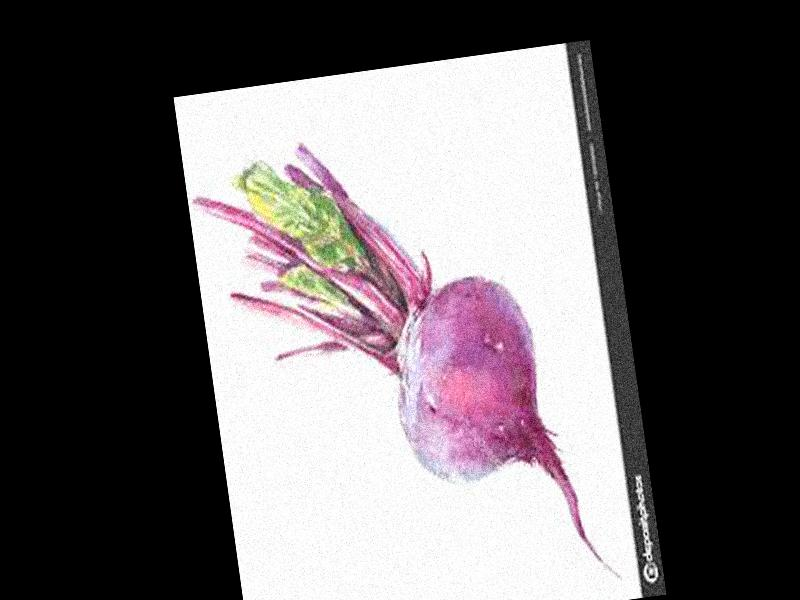Beet: (186, 109, 620, 600)
